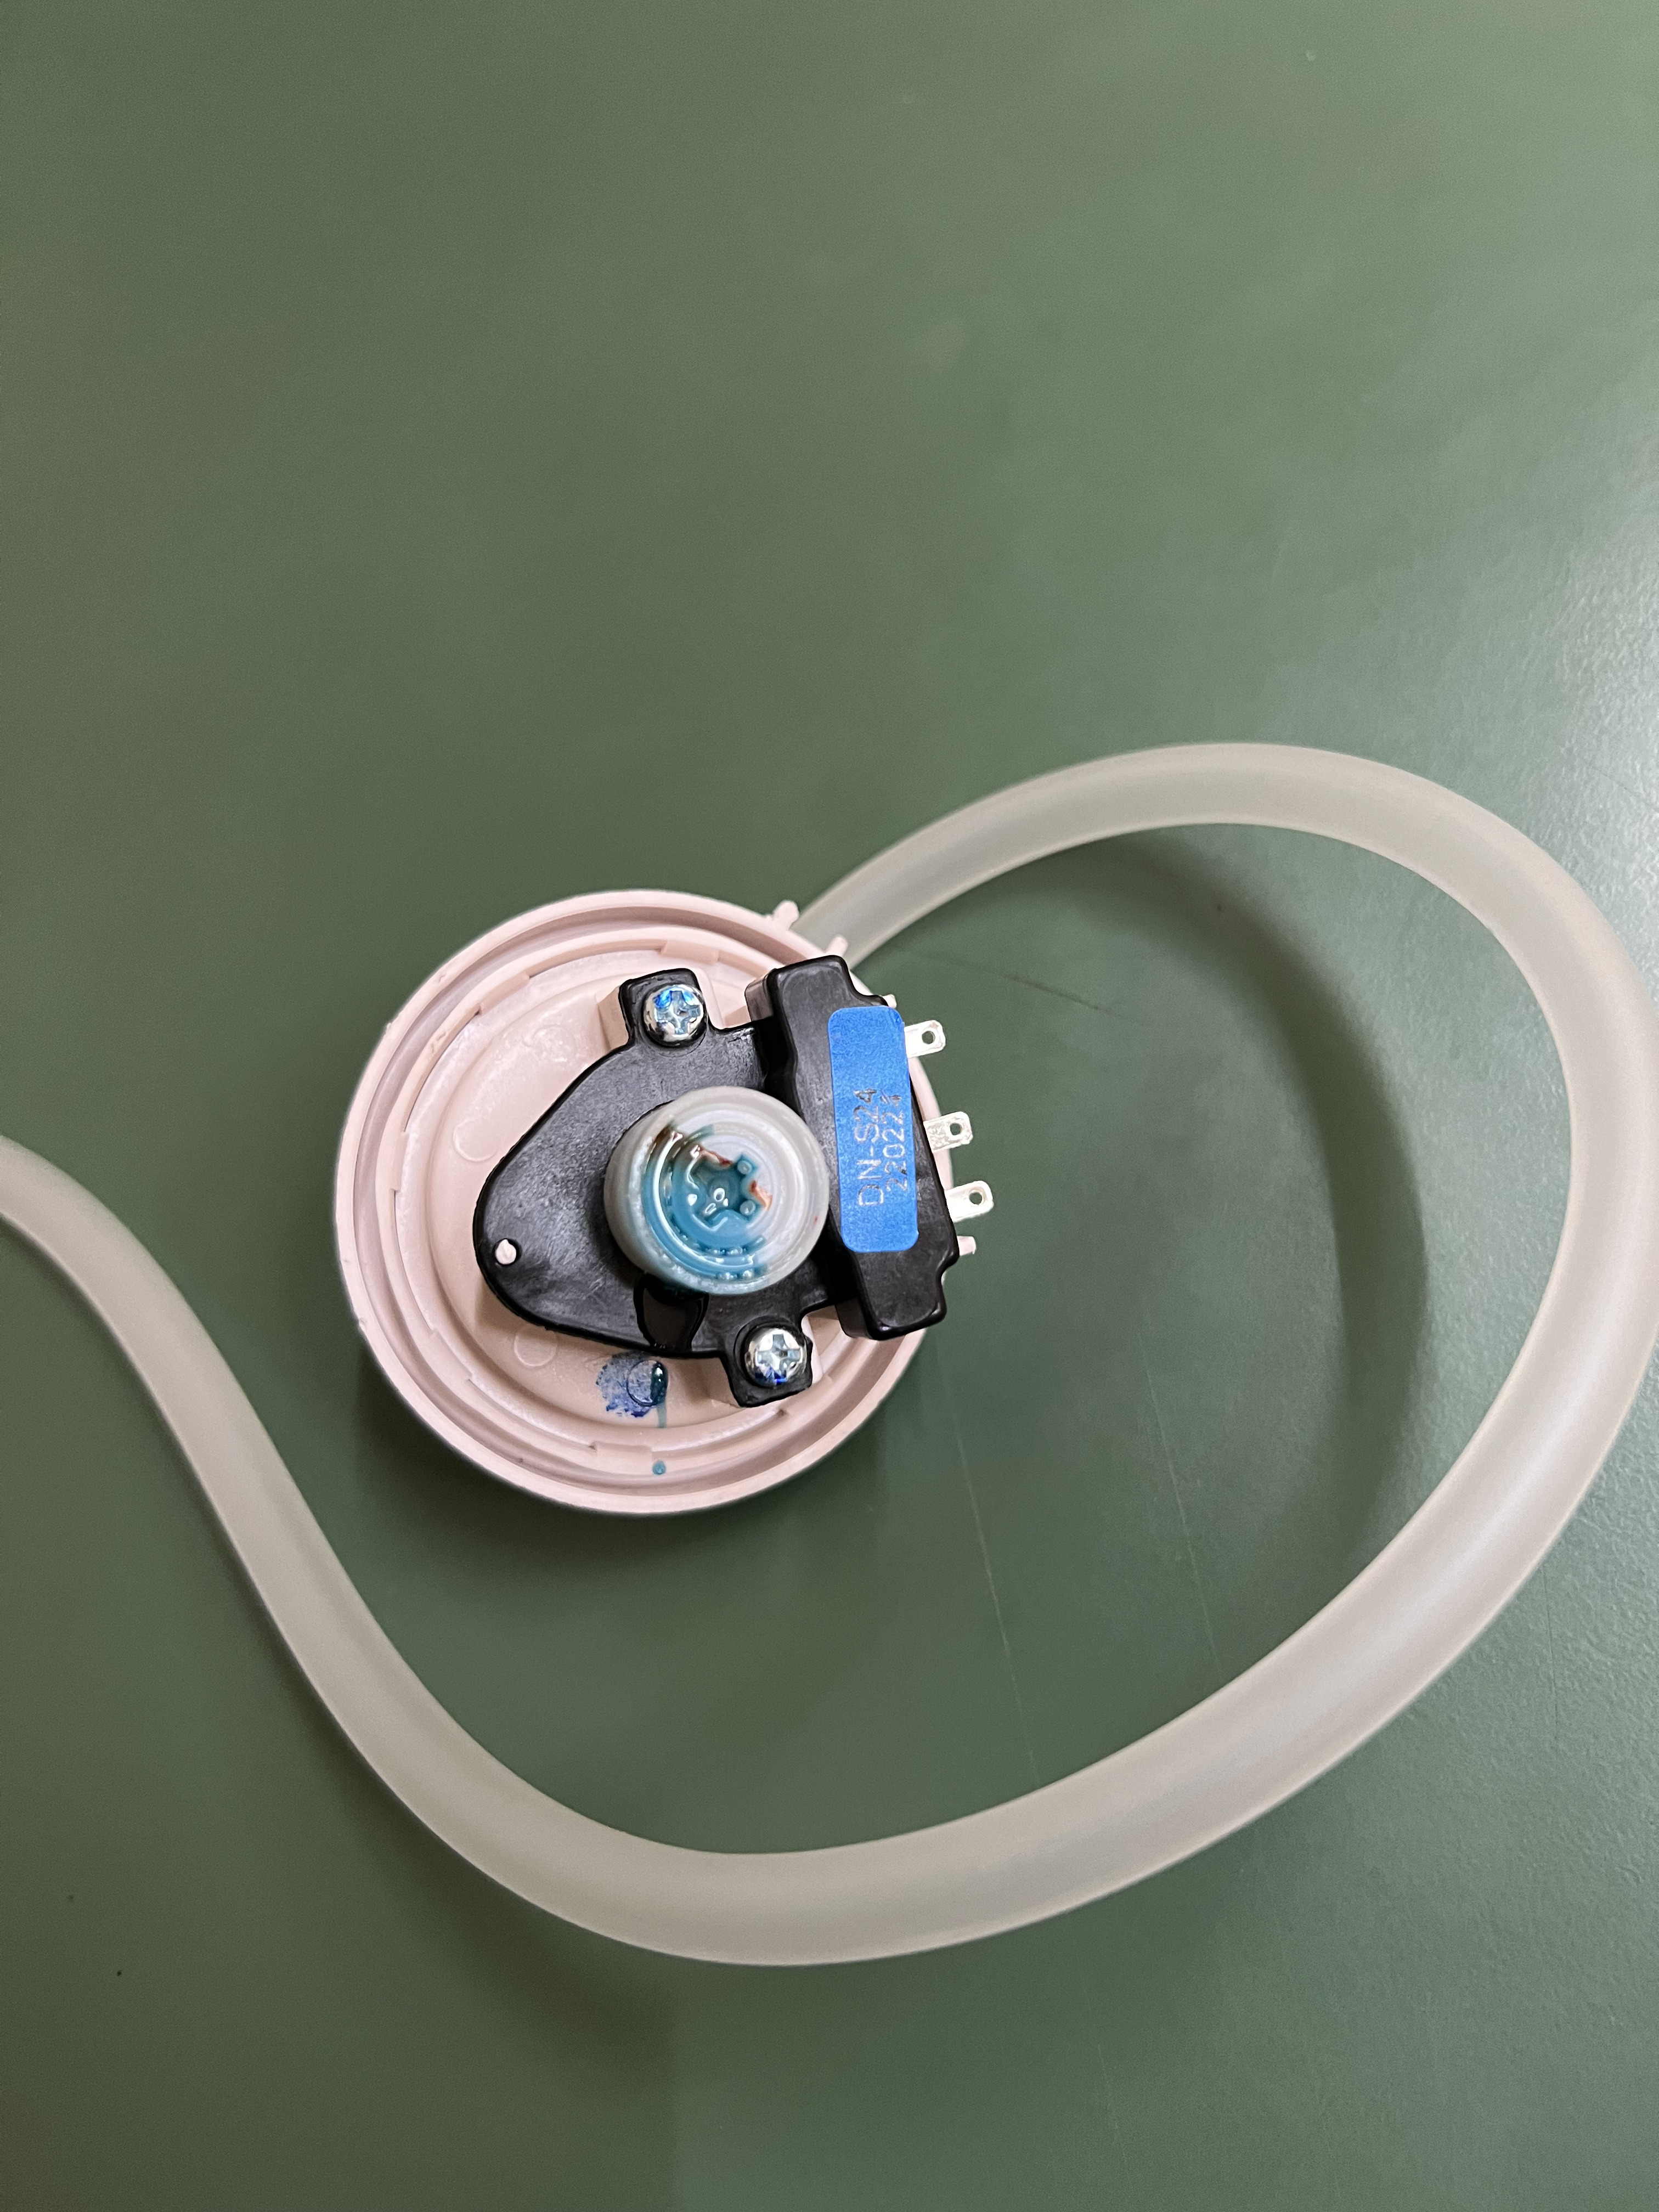pressure_sensor: (99, 745, 1649, 1958)
